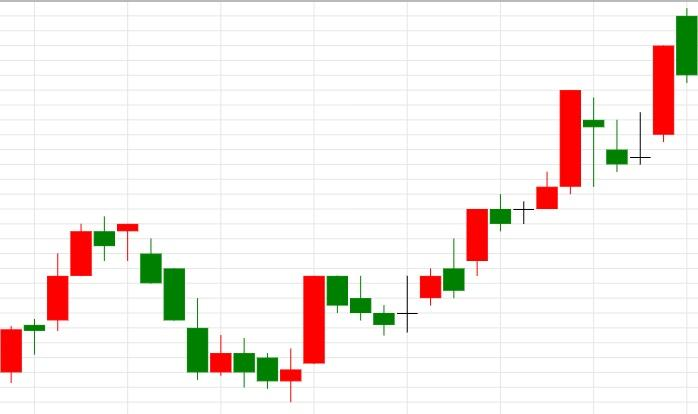inverse_hammer_rise: (559, 90, 629, 195)
